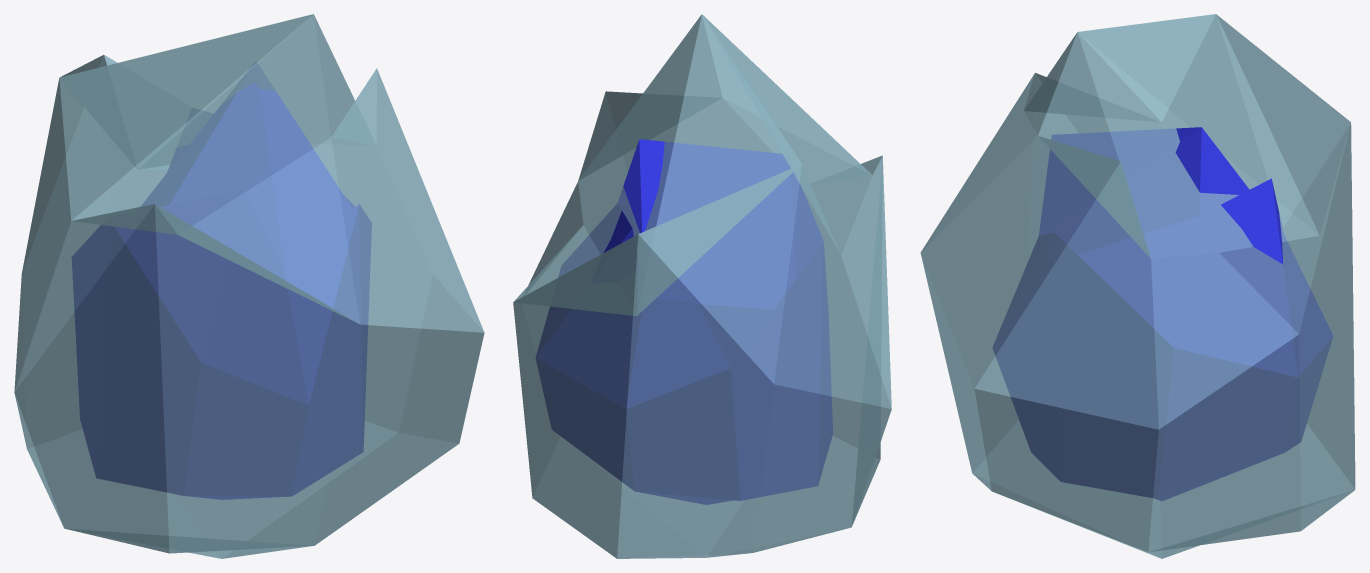
The model's file is water.fbx.
3 renders of one model, left to right at view 1: azimuth 30°, elevation 25°; view 2: azimuth 150°, elevation 25°; view 3: azimuth 270°, elevation 25°, orthographic. The views are drawn at different scales.
Visible parts, largest first — view 1: Water; view 2: Water; view 3: Water.
Part boxes in pixels (<box>): Water: <box>14,14,484,558</box>; Water: <box>513,14,891,558</box>; Water: <box>920,14,1355,558</box>.
Size of the model in its own units: 39.05 by 50.57 by 36.24.
